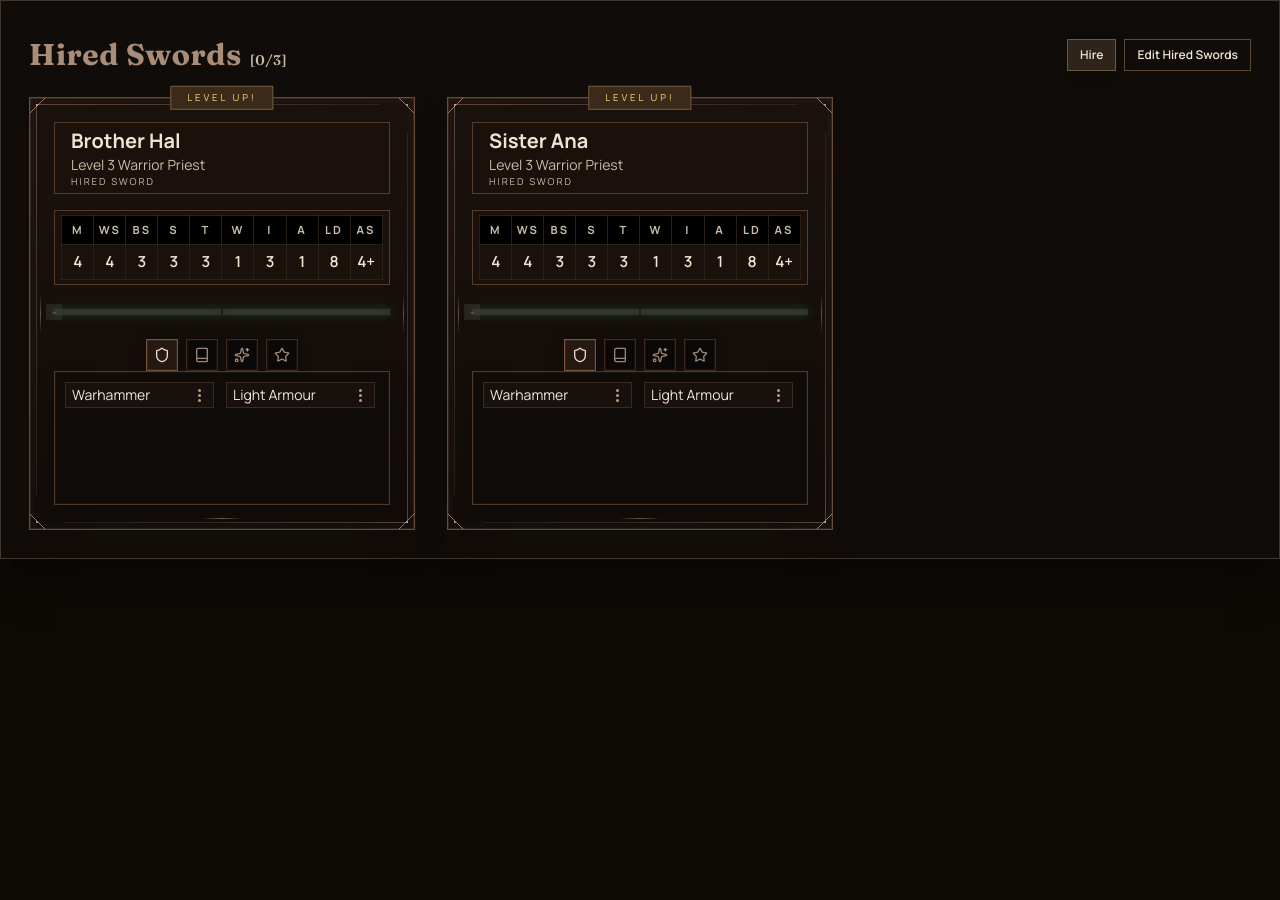
catalogue entries created mid-edit (ROST-NEW-02) › offers a race created on one card in the next card's race picker
Click the button "Edit Hired Swords": {"x": 1188, "y": 55} [1124,39,1251,71]
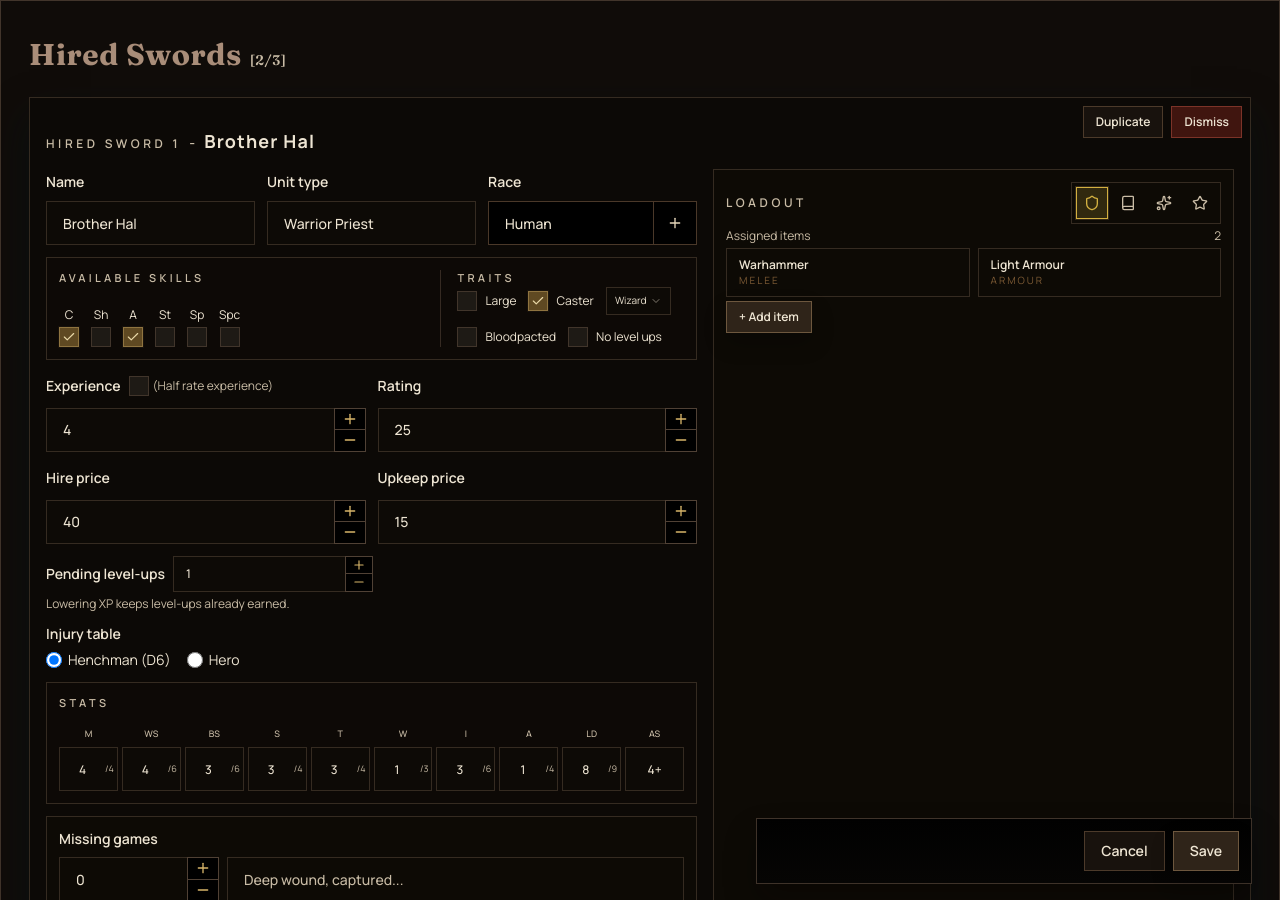
Now the number of elements "Hired Sword 1" is 2
Click the button named "Create race": {"x": 675, "y": 223} [653,201,697,245]
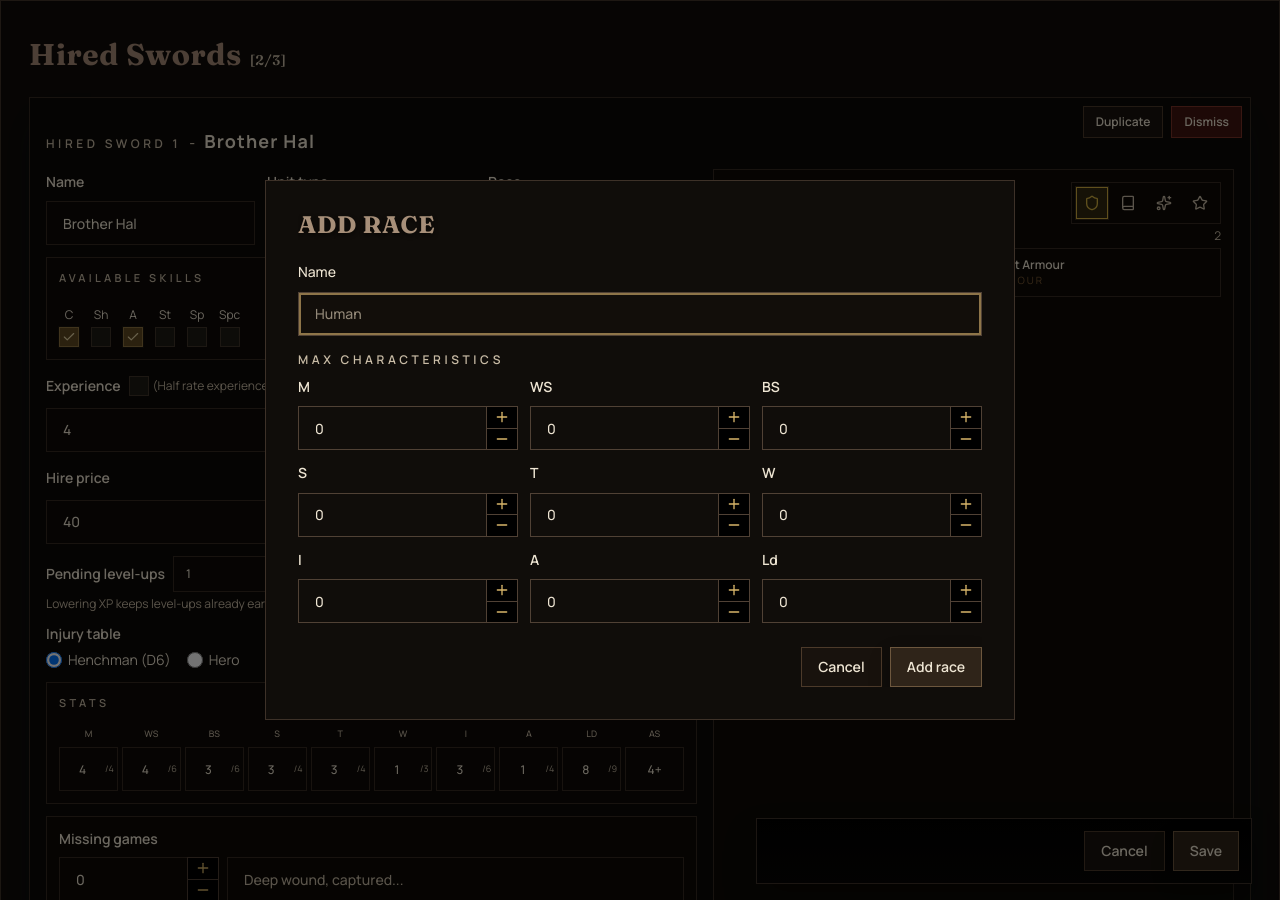
In the field with placeholder "Human": {"x": 640, "y": 314} [298,292,982,336], type "Ogre"
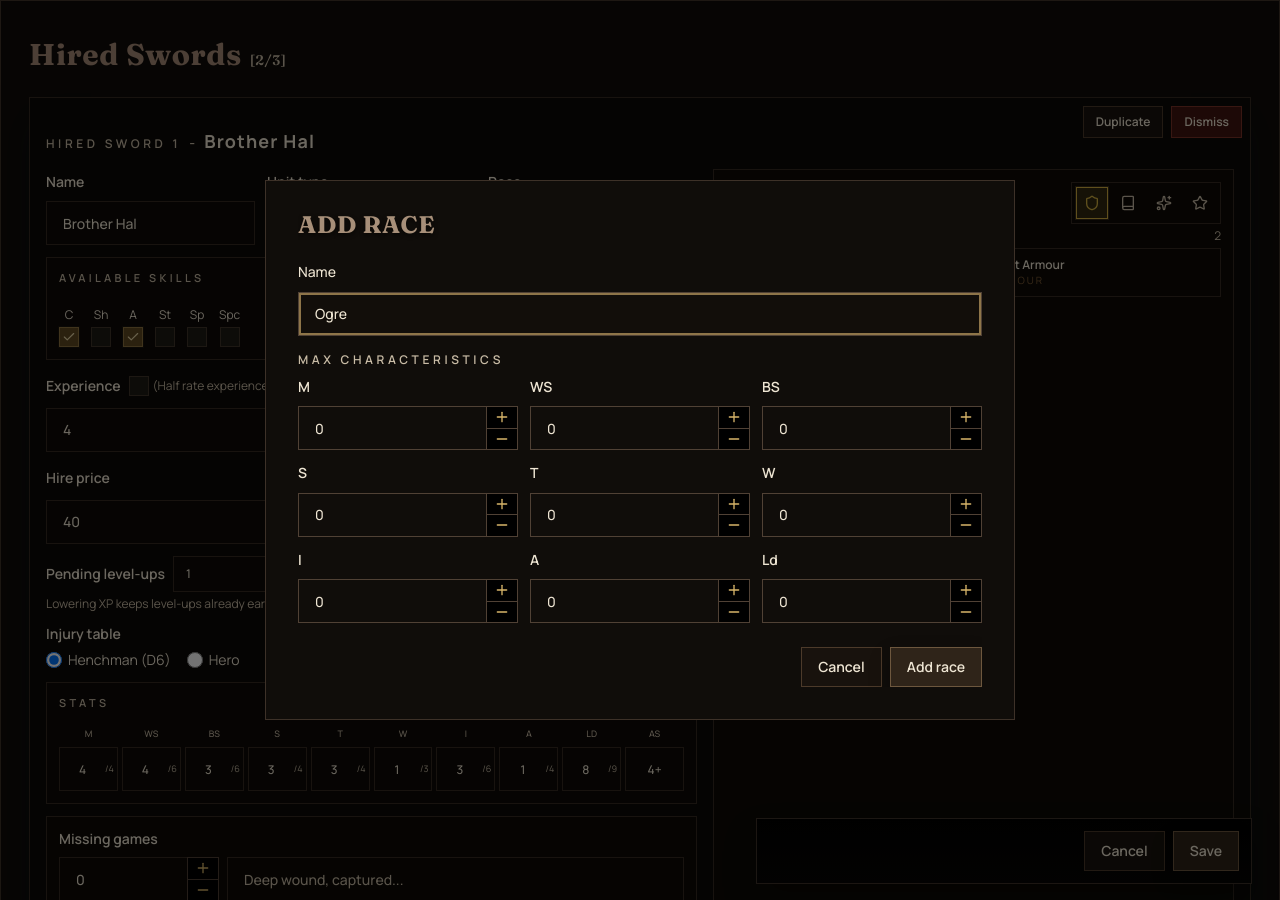
Click the button "Add race": {"x": 936, "y": 667} [890,647,982,687]
(page scrolled)
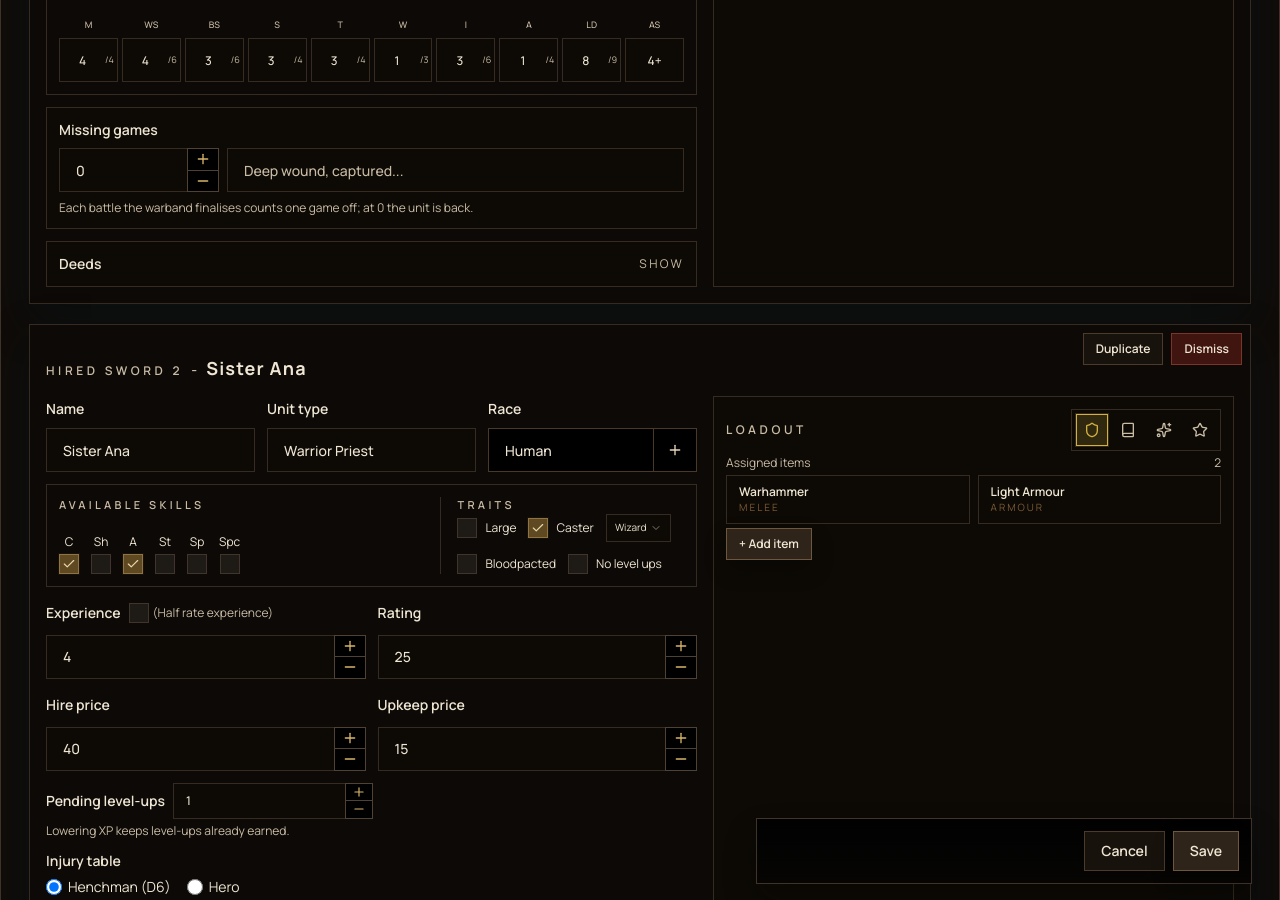
Now the dialog is gone
Clear the dropdown with placeholder "Search races...": {"x": 593, "y": 450} [488,428,697,472]
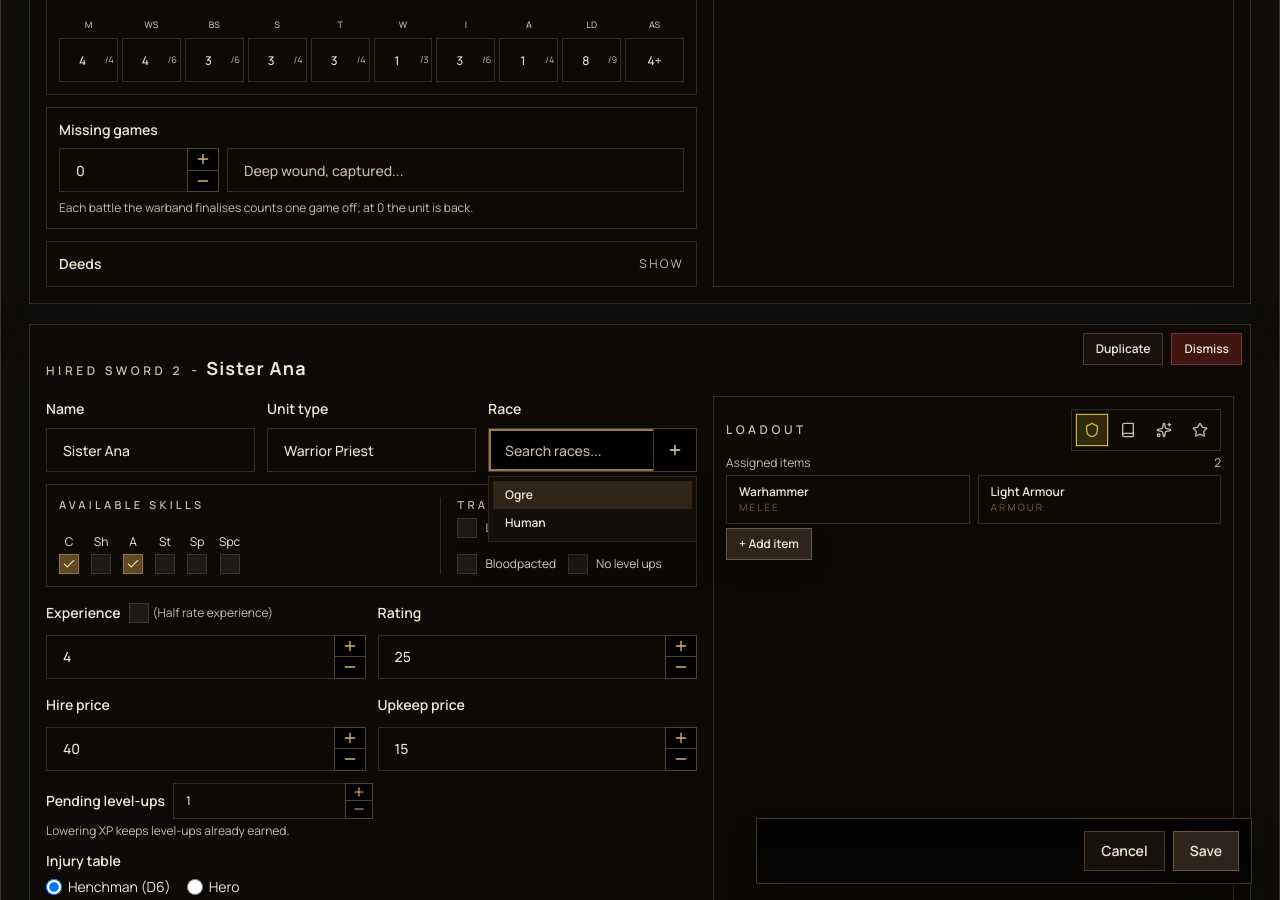
Now the option "Ogre" is shown, box [493,481,692,509]
